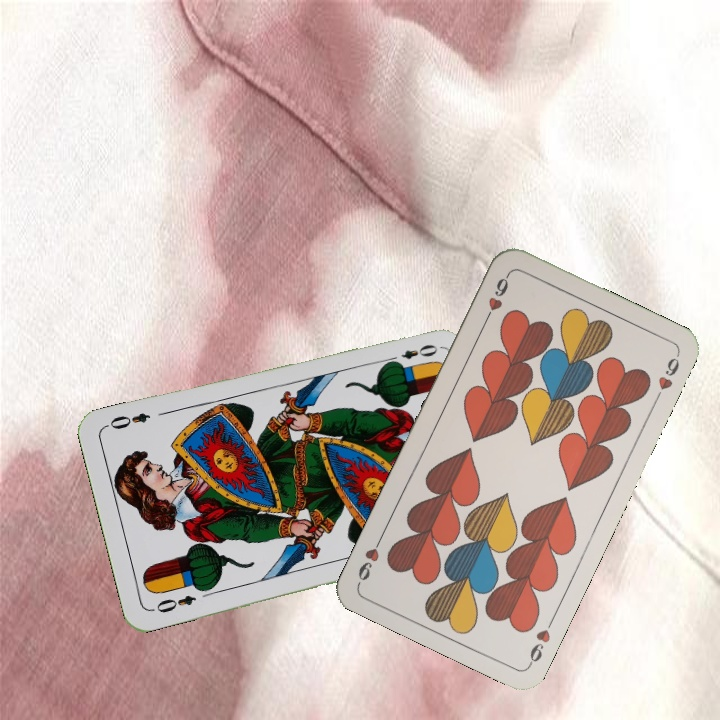EO: (383, 340, 440, 367), (148, 591, 199, 616)
H9: (524, 613, 558, 668), (480, 270, 513, 325)
